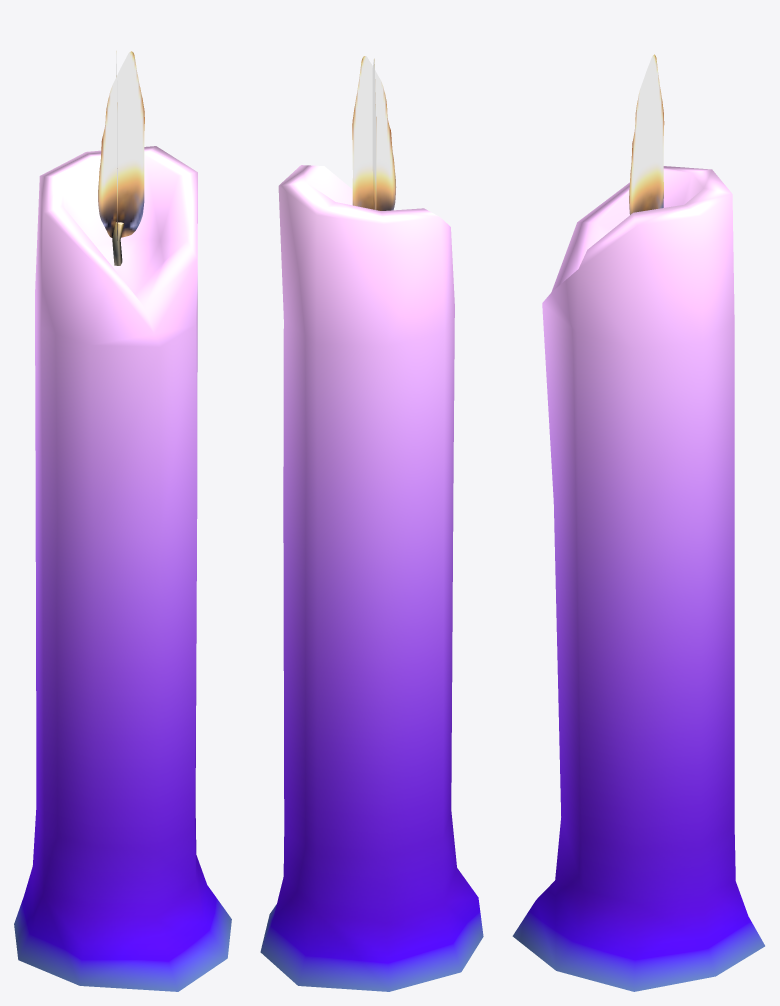
File: CandleShapeA.024.glb
3 renders of one model, left to right at view 1: azimuth 30°, elevation 25°; view 2: azimuth 150°, elevation 25°; view 3: azimuth 270°, elevation 25°, orthographic.
Visible parts, largest first — view 1: CandleShapeA.024; view 2: CandleShapeA.024; view 3: CandleShapeA.024.
Boxes of the visible parts, bbox=[...] form: CandleShapeA.024: bbox=[14, 51, 231, 991]; CandleShapeA.024: bbox=[260, 56, 483, 991]; CandleShapeA.024: bbox=[512, 54, 764, 991].
Bounding box in the file's own units: 0.0814 × 0.3472 × 0.0887.
2 materials, 2 textured.
